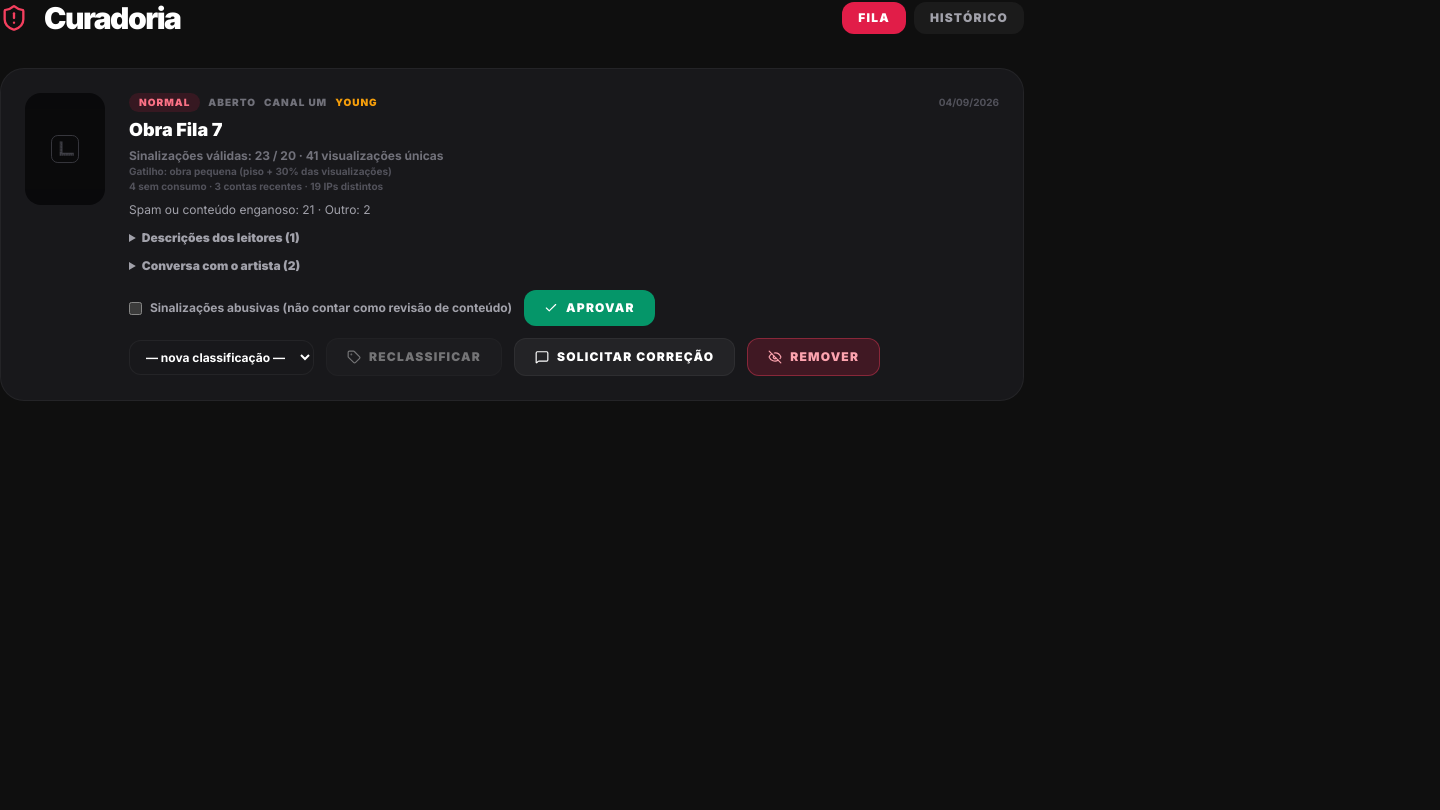
Test: CuradoriaPanel — 409 e recarga da fila › erro com o caso FORA da fila recarregada (série apagada → 404): modal fecha e a mensagem sobrevive
Step 1. Click the button "Remover" → (814, 357), box [747,338,880,376]
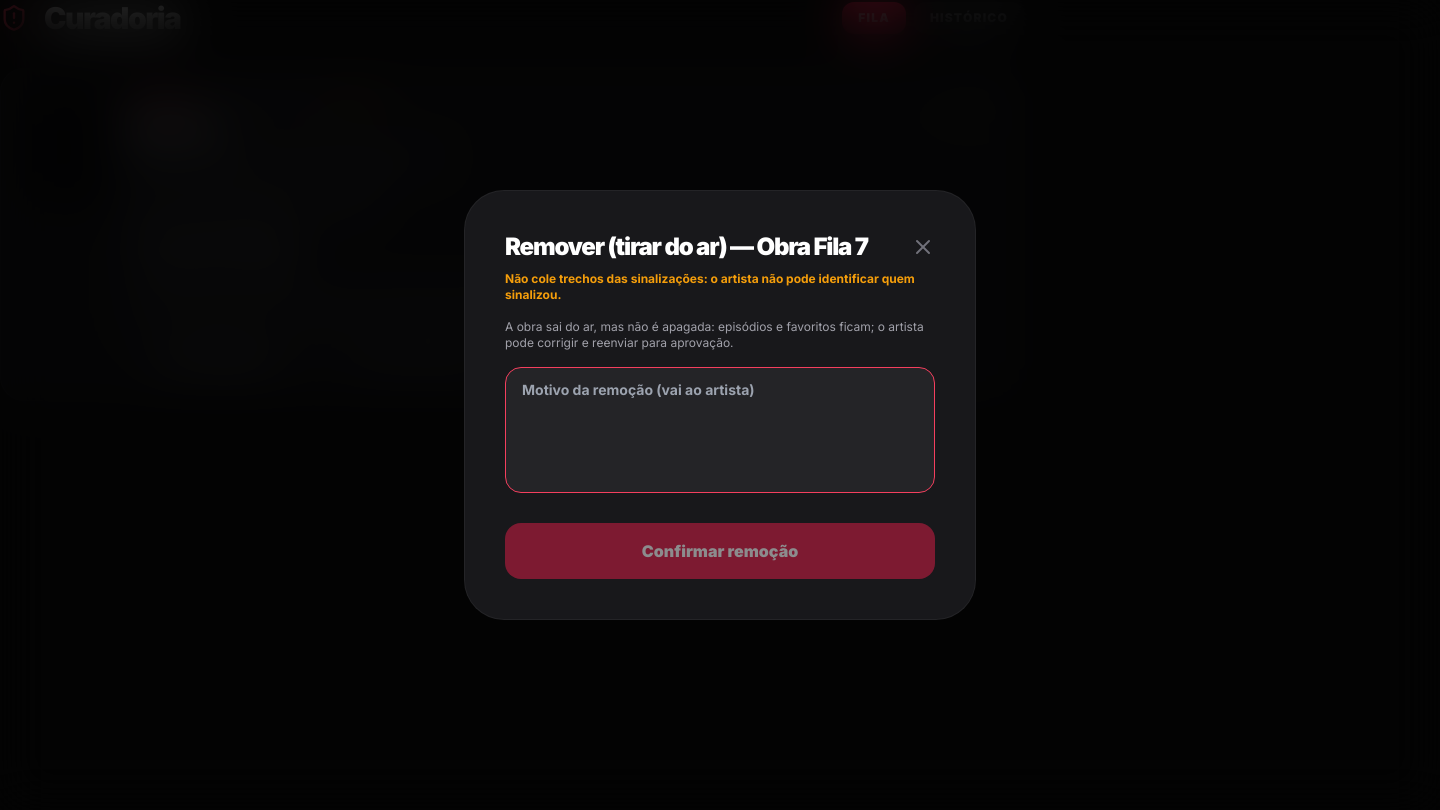
Step 2. Type "Cópia confirmada." into the text box with placeholder "Motivo da remoção (vai ao artista)" → (720, 430), box [505,367,935,493]
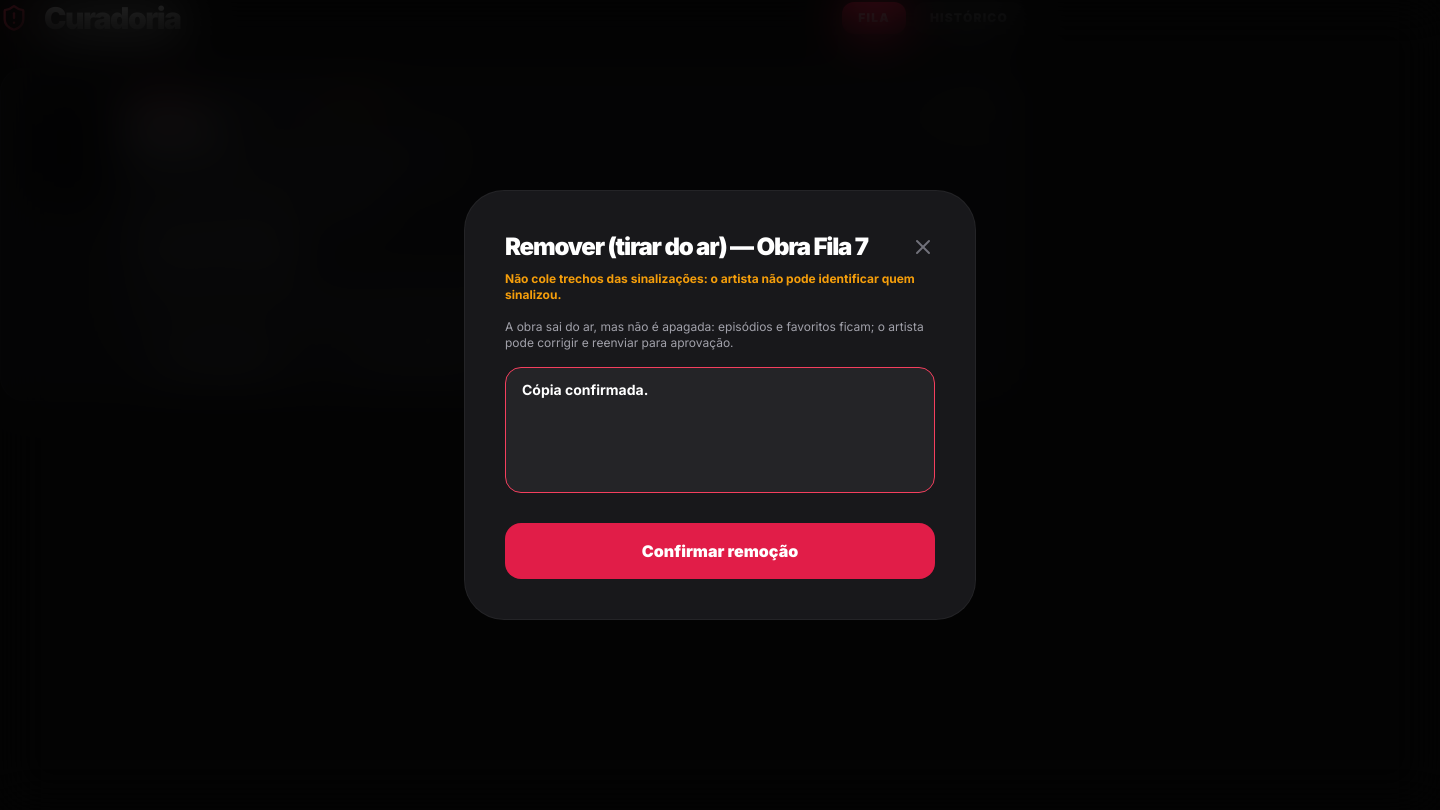
Step 3. Click the button "Confirmar remoção" → (720, 551), box [505,523,935,579]
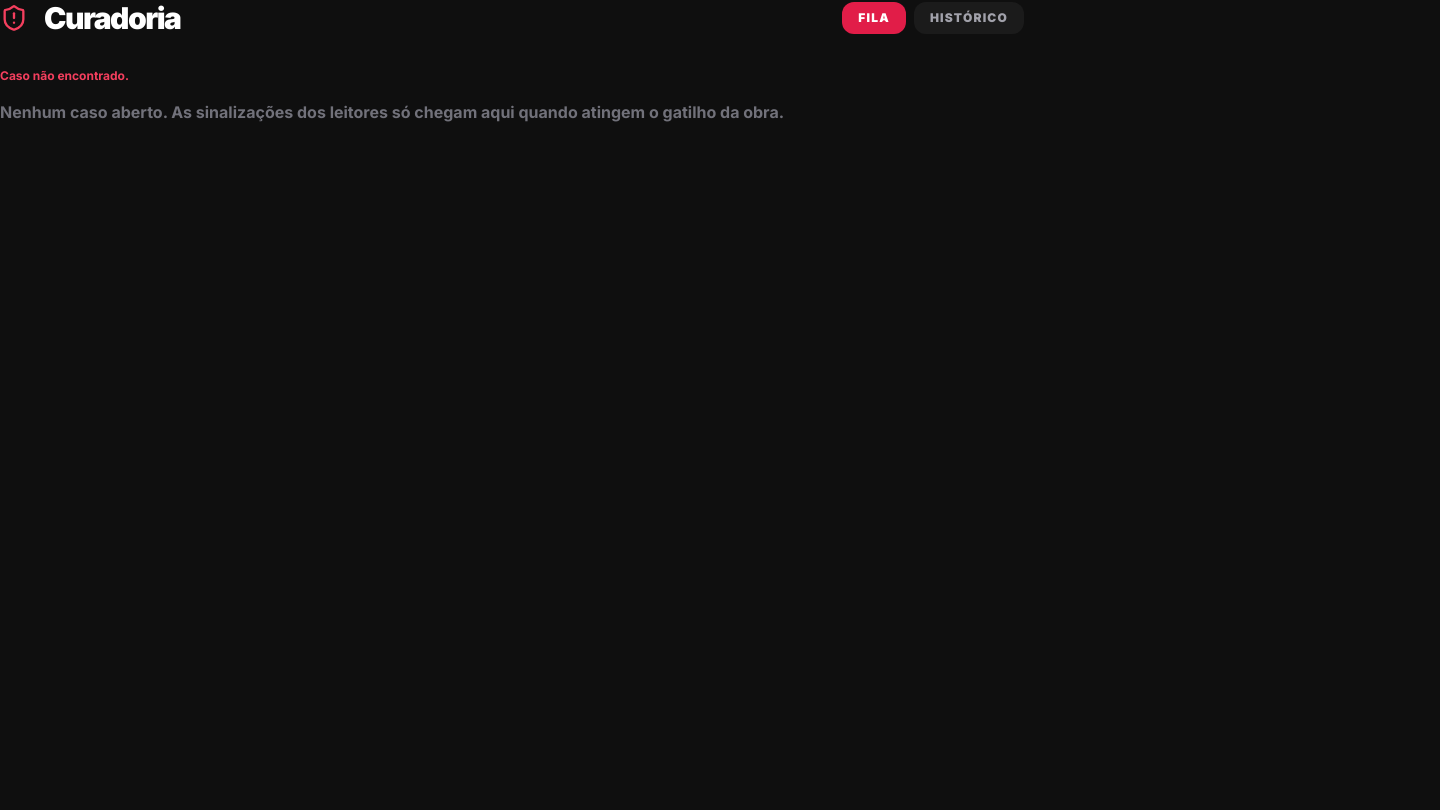
Expected: the dialog is gone
Expected: the button "Confirmar remoção" is gone
Expected: the text "Caso não encontrado." is shown, [0,68,129,83]
